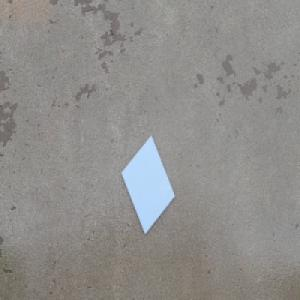PaintChip: (120, 133, 175, 236)
